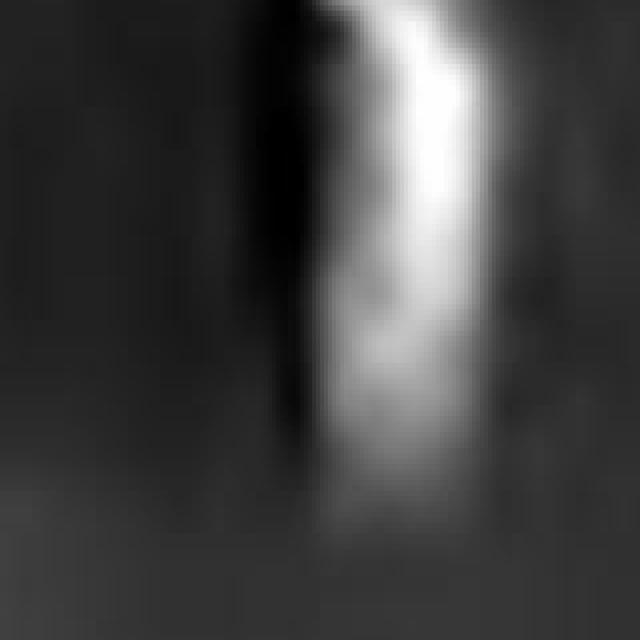person: (305, 1, 509, 540)
